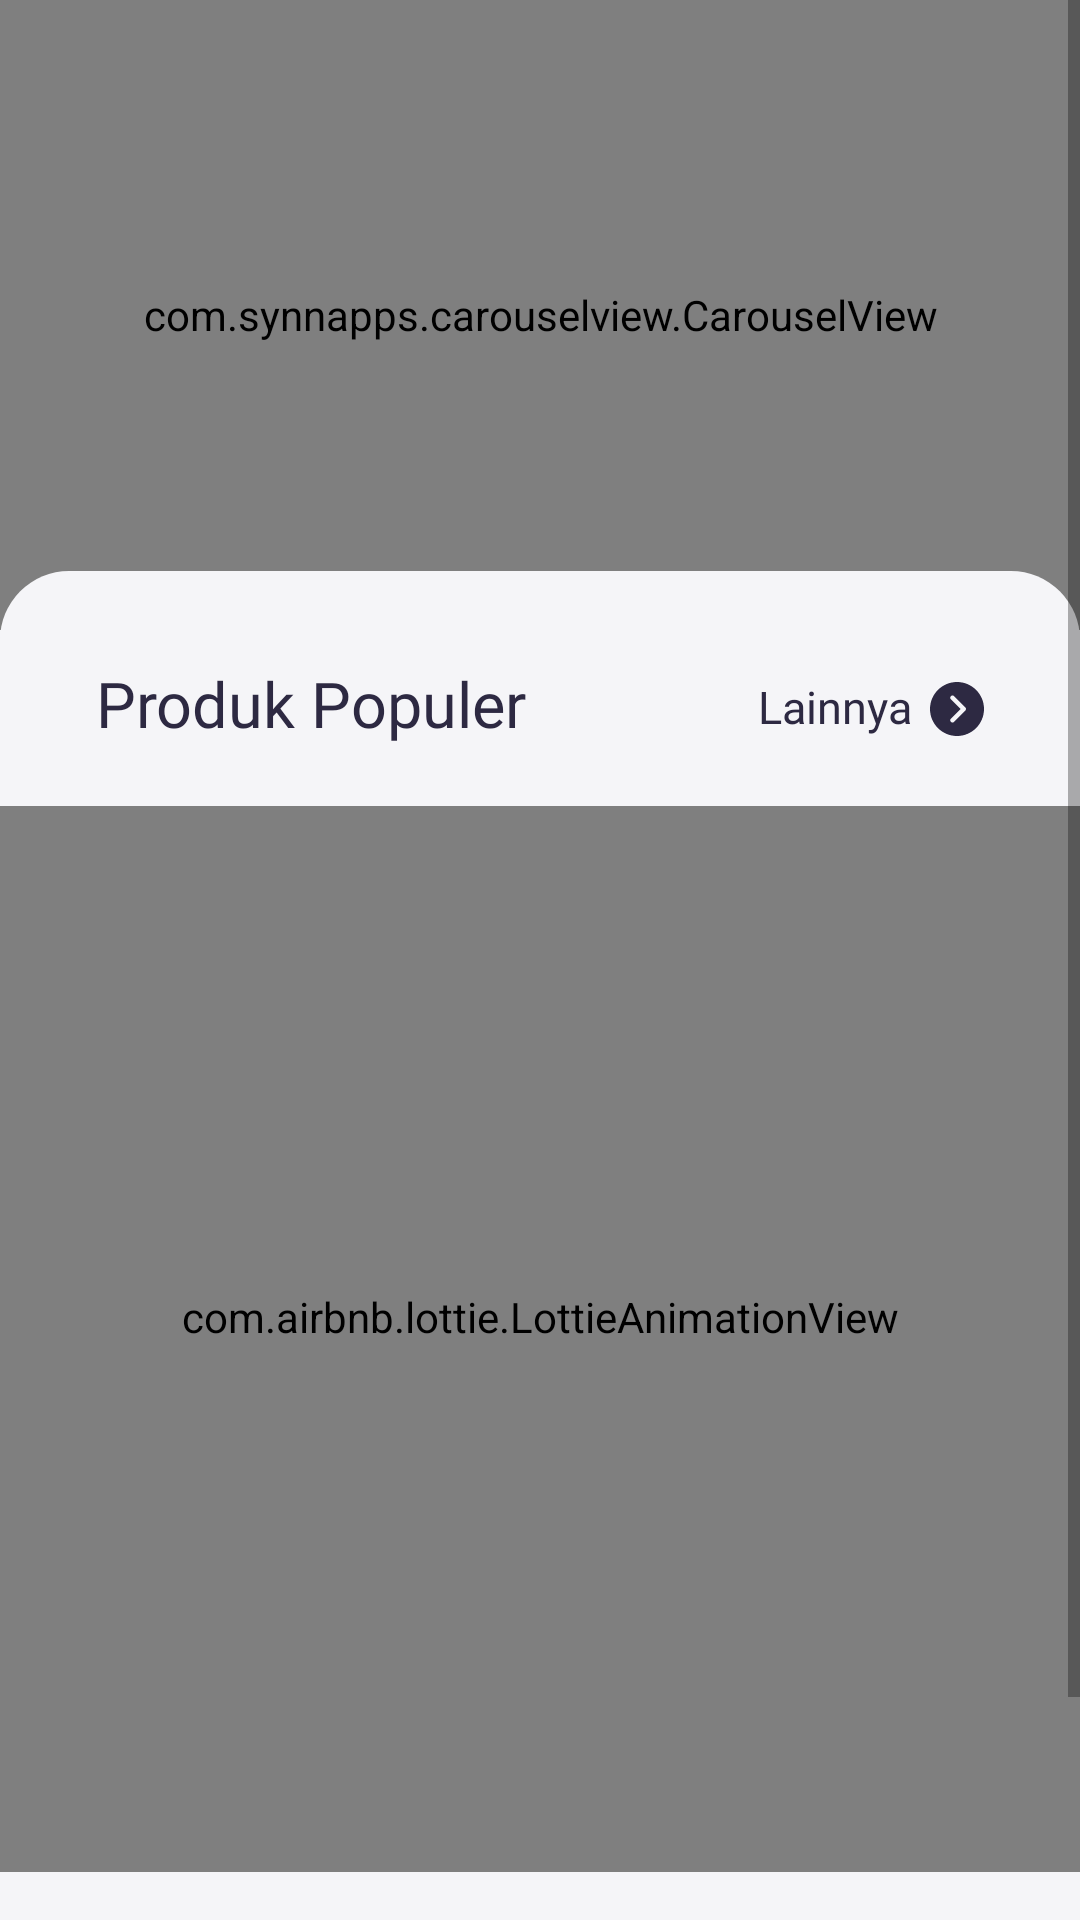

Named icons in this screenshot (1080 × 1920) and their bounding boxes, (x1, y1, x2, y2):
next: (930, 682, 984, 736)
